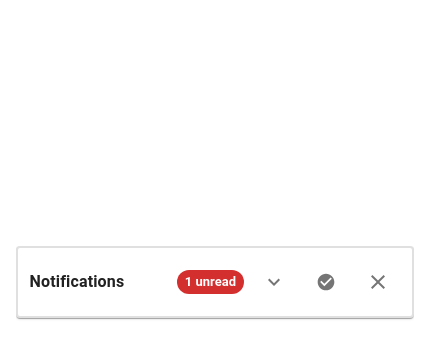
NotificationCenter › expands and collapses notification list
Click the button named "Expand notifications".
click(274, 282)  # box [252,260,296,304]
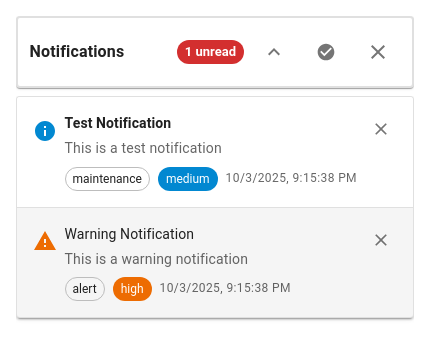
Check: the heading "Test Notification" is shown, box [65,115,171,131]
Check: the heading "Warning Notification" is shown, box [65,226,194,242]
Click the button named "Collapse notifications".
click(274, 52)  # box [252,30,296,74]
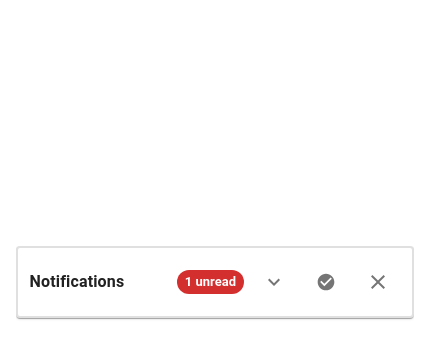
Check: the button named "Expand notifications" is shown, box [252,260,296,304]
